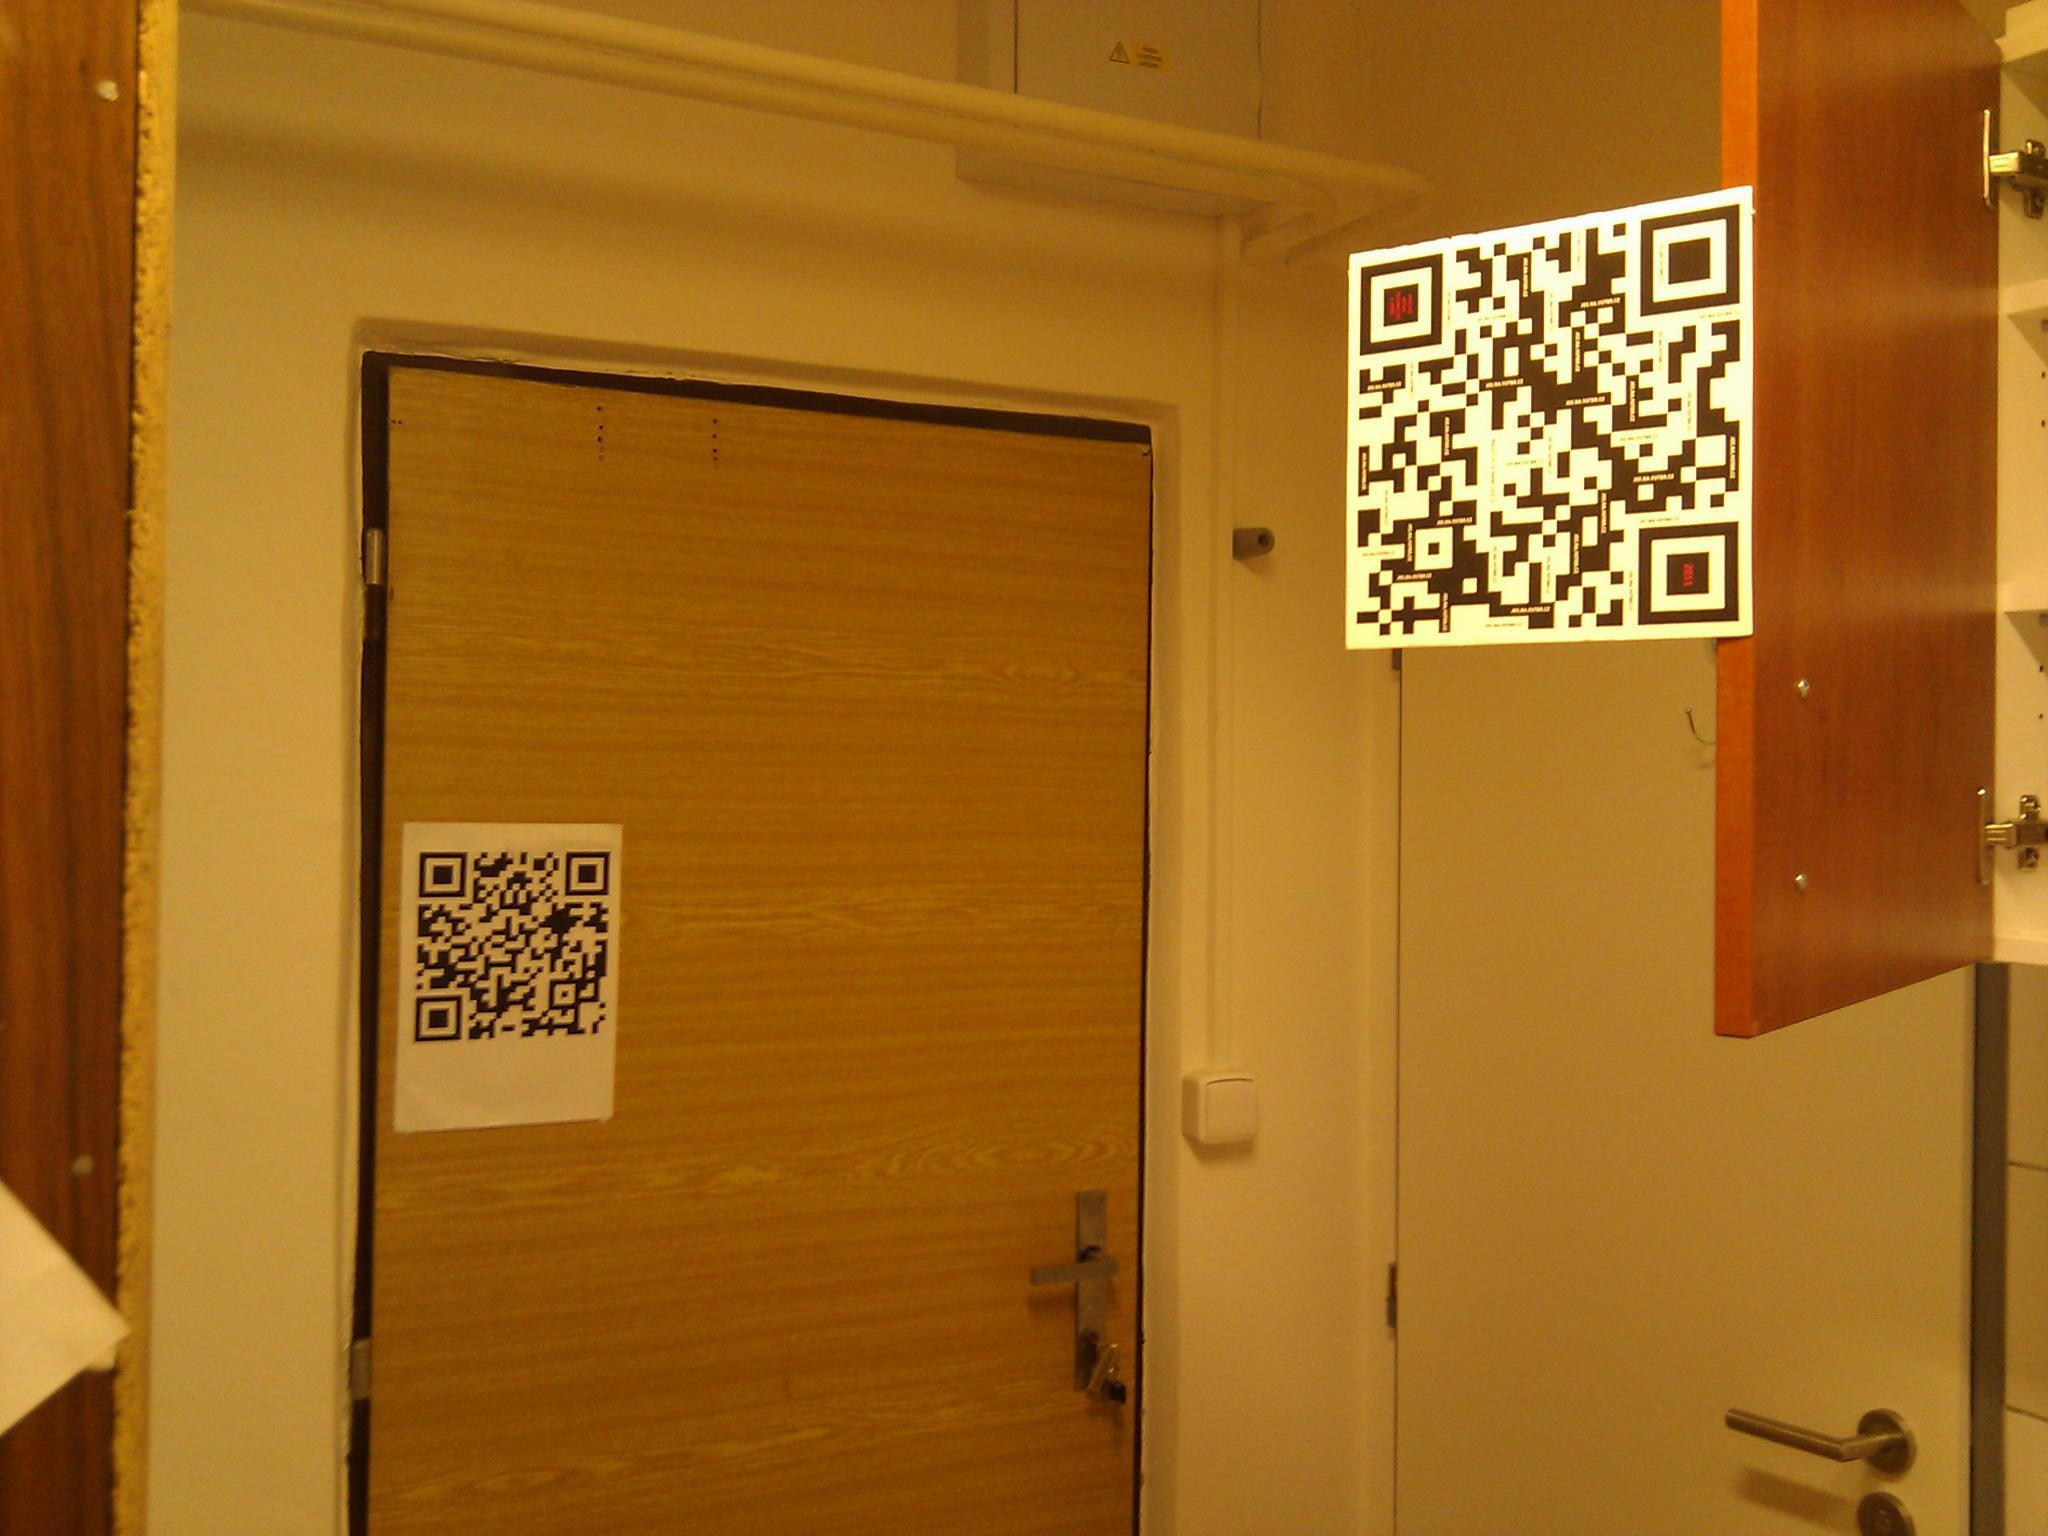Finder pattern: (1637, 508, 1750, 631), (1638, 192, 1743, 319), (1353, 257, 1450, 353), (410, 986, 469, 1050), (564, 842, 616, 907), (418, 850, 469, 907)
